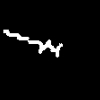double_crochet: (4, 30, 62, 56)
